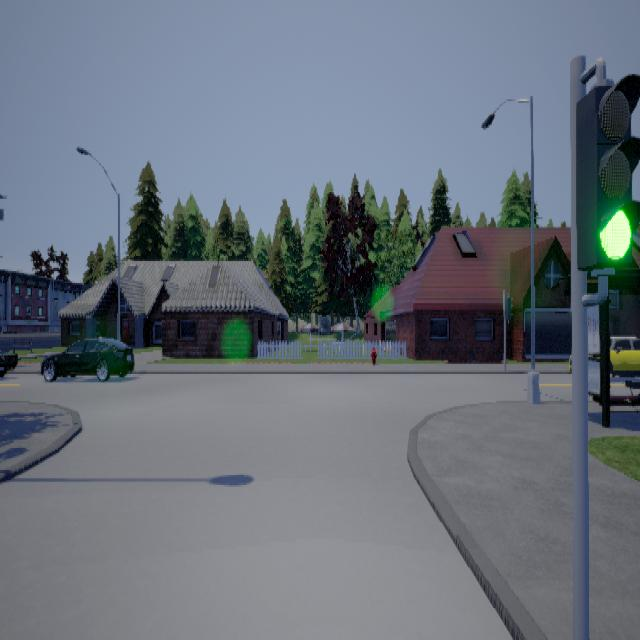green_light: (575, 55, 639, 305)
vehicle: (40, 335, 134, 381), (609, 335, 639, 376)
